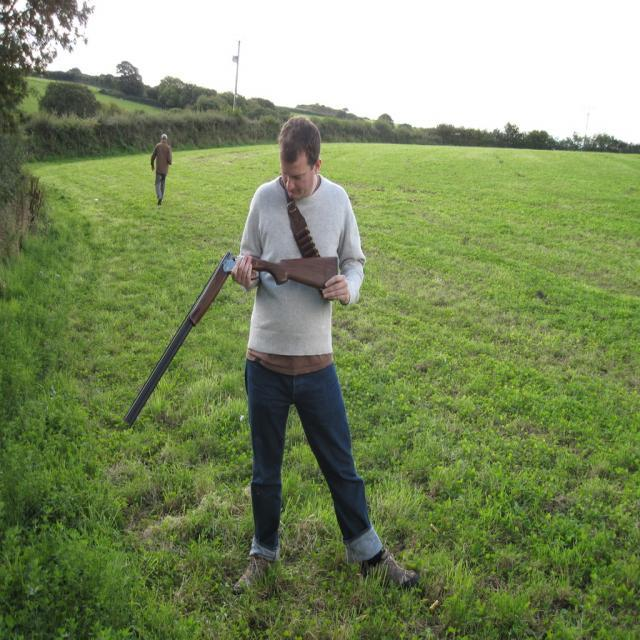weapon: (124, 250, 340, 427)
